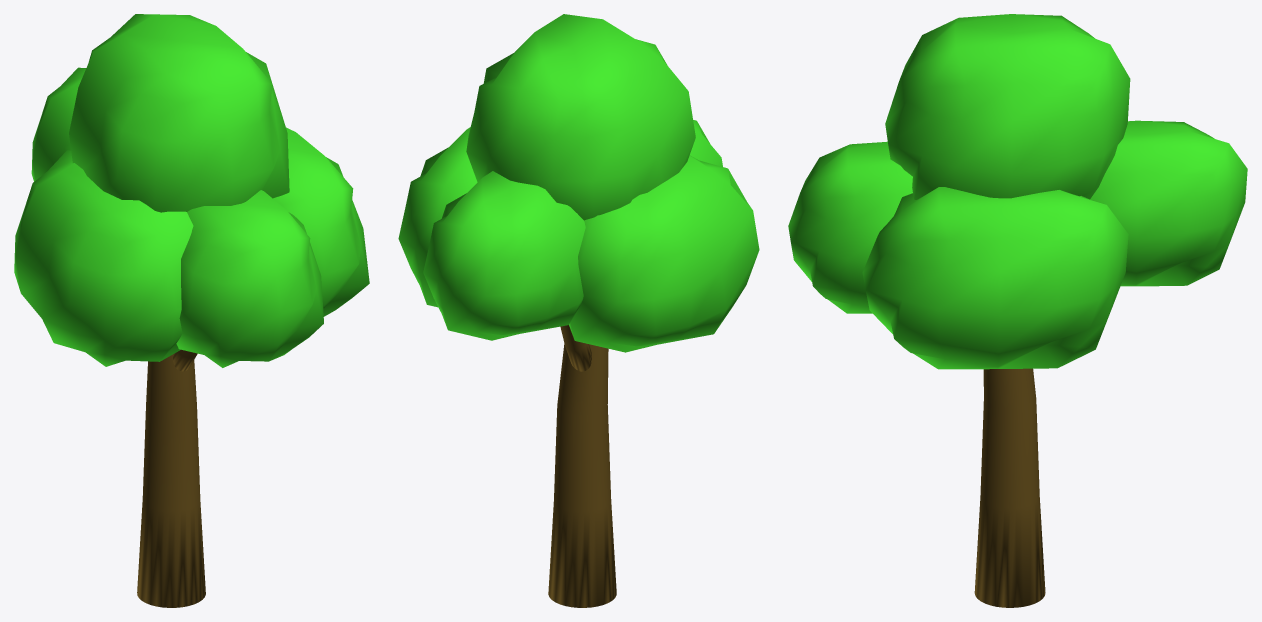
The model's file is Tree.fbx.
3 renders of one model, left to right at view 1: azimuth 30°, elevation 25°; view 2: azimuth 150°, elevation 25°; view 3: azimuth 270°, elevation 25°, orthographic. The views are drawn at different scales.
Visible parts, largest first — view 1: Tree; view 2: Tree; view 3: Tree.
Boxes of the visible parts, box(x1,y1,x2,y2) form: Tree: box(14, 14, 369, 607); Tree: box(398, 14, 759, 607); Tree: box(788, 14, 1247, 607).
Size of the model in its own units: 228 by 392 by 285.
